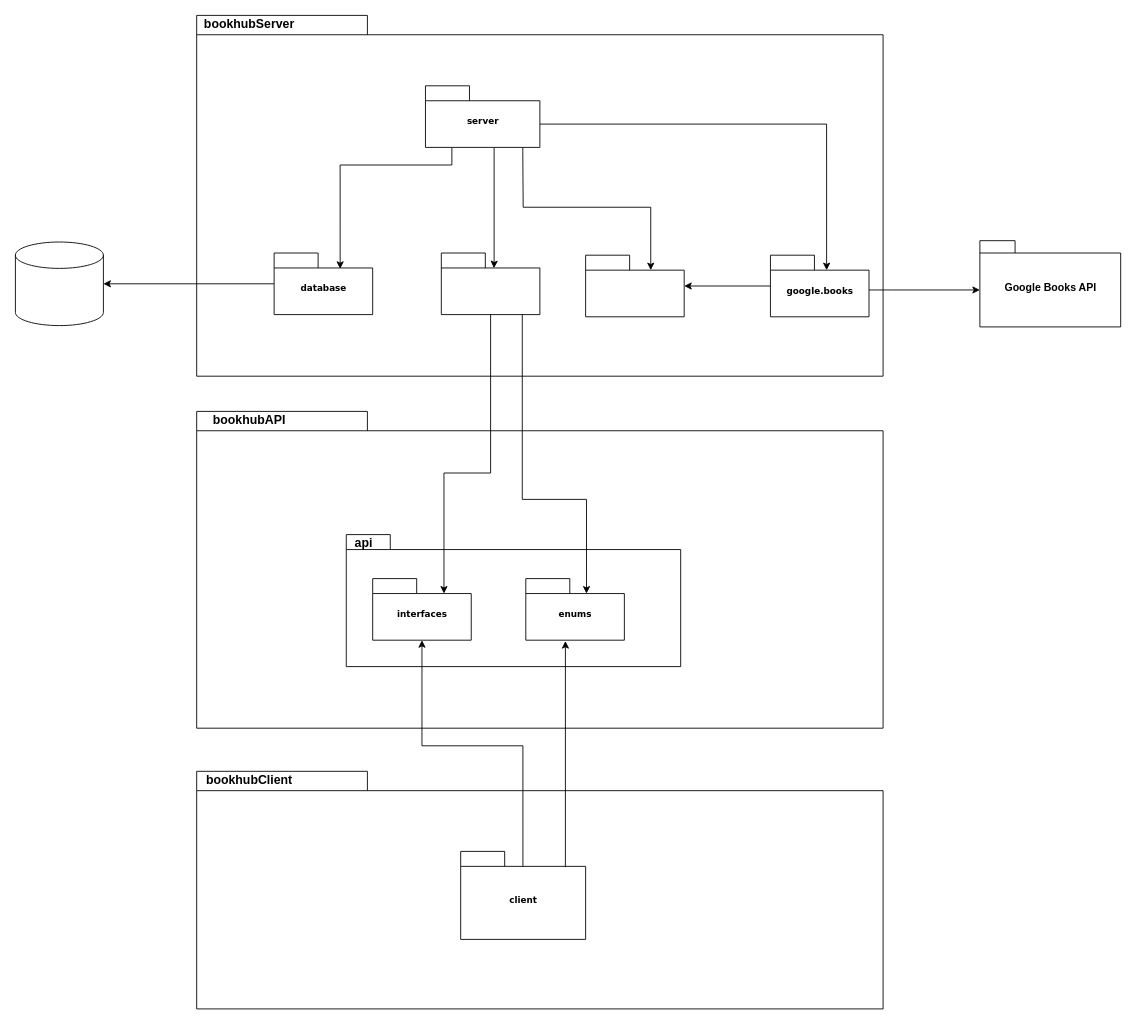
The diagram is 1136 pixels wide and 1024 high, and some of its shapes have lost their labels. Here are the shapes that lost their labels. From the top down, the box of each, then its label:
(15, 241, 103, 326): DB
(440, 252, 540, 315): implementations
(585, 254, 684, 317): dto
